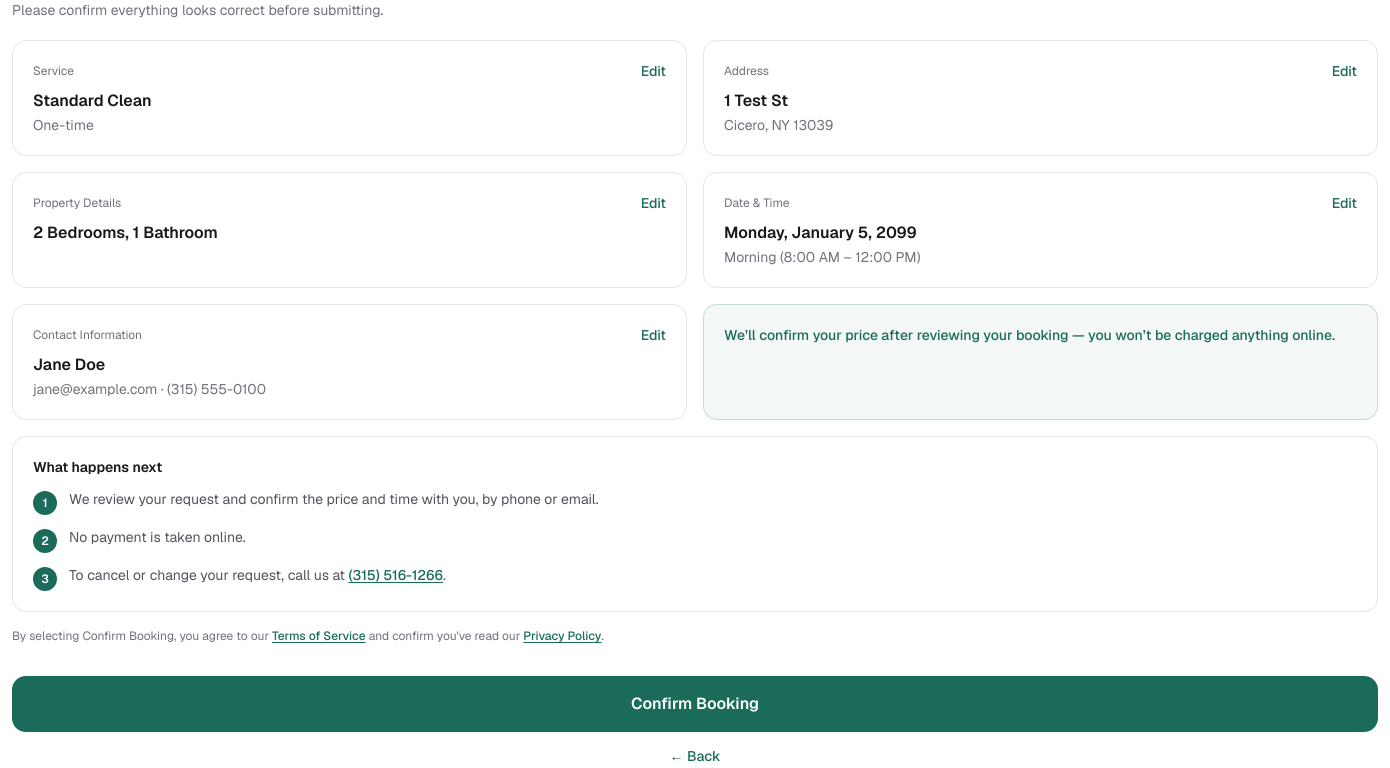
it: residential review: submit failures › shows the service-unavailable screen when the database could not be reached
(page scrolled)
Click the button "Confirm Booking" at point(695, 704), box [12,676,1378,732]
(page scrolled)
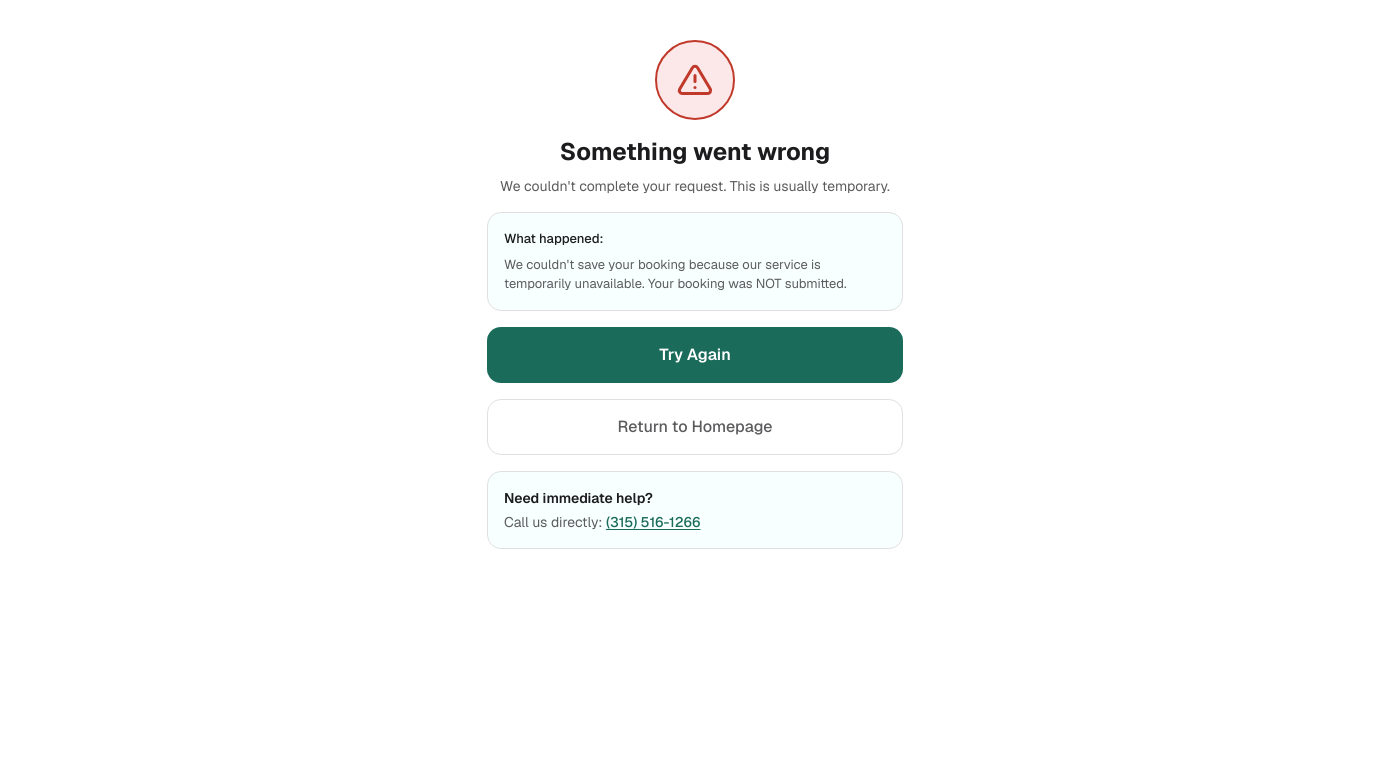
Expected: the heading "Something went wrong" is shown, [560,136,830,167]
